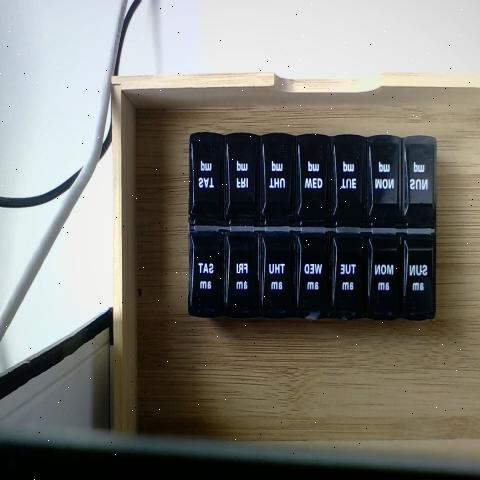FRI-am: (227, 230, 260, 318)
FRI-pm: (227, 135, 262, 227)
MON-am: (367, 232, 402, 318)
MON-pm: (368, 136, 400, 226)
SAT-am: (189, 228, 227, 315)
SAT-pm: (190, 132, 225, 224)
SUN-am: (402, 234, 435, 320)
SUN-pm: (403, 137, 436, 228)
THU-am: (262, 230, 298, 322)
THU-pm: (265, 137, 298, 228)
TUE-am: (331, 228, 366, 316)
TUE-pm: (334, 135, 368, 227)
WED-am: (298, 226, 332, 320)
WED-pm: (299, 137, 330, 226)
